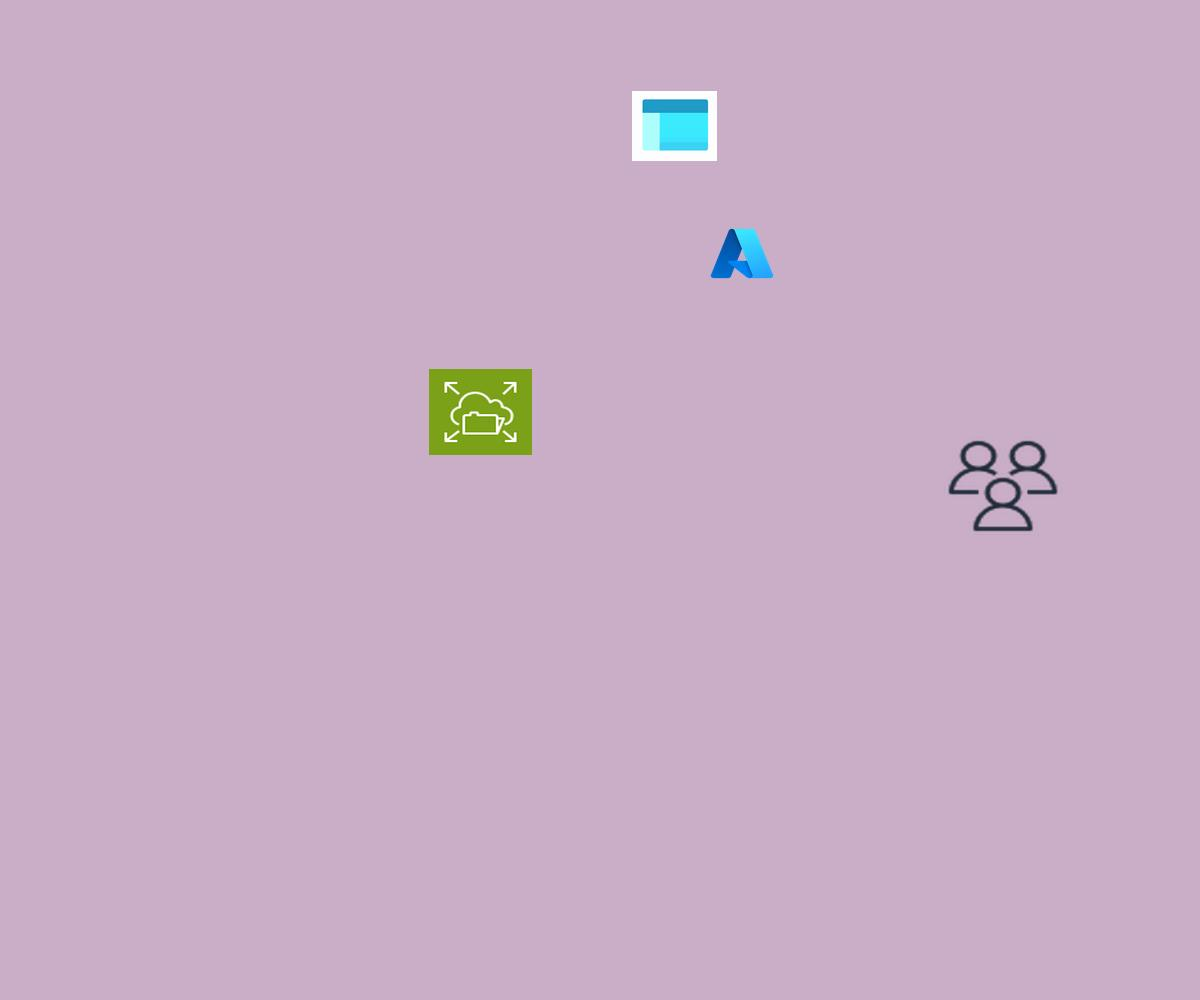AWS-EFS: (429, 369, 532, 455)
AWS-Res_Users: (944, 437, 1062, 535)
Azure_management-portal: (632, 91, 717, 161)
Azure_services: (708, 225, 776, 282)
